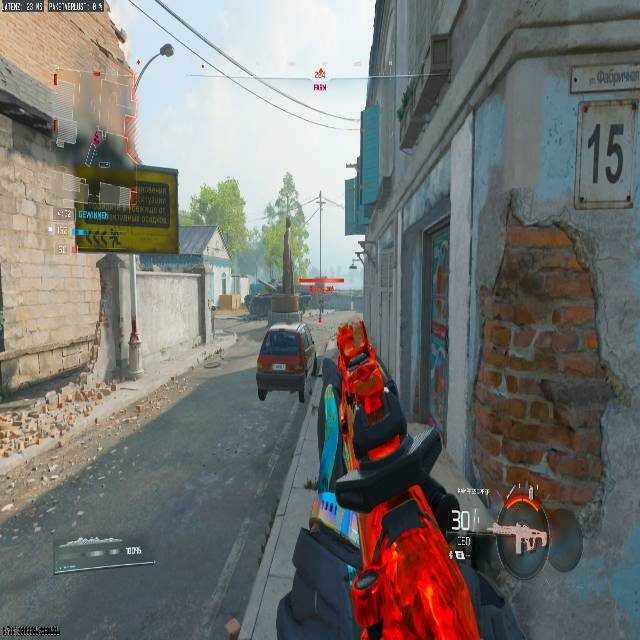player: (312, 293, 329, 317)
